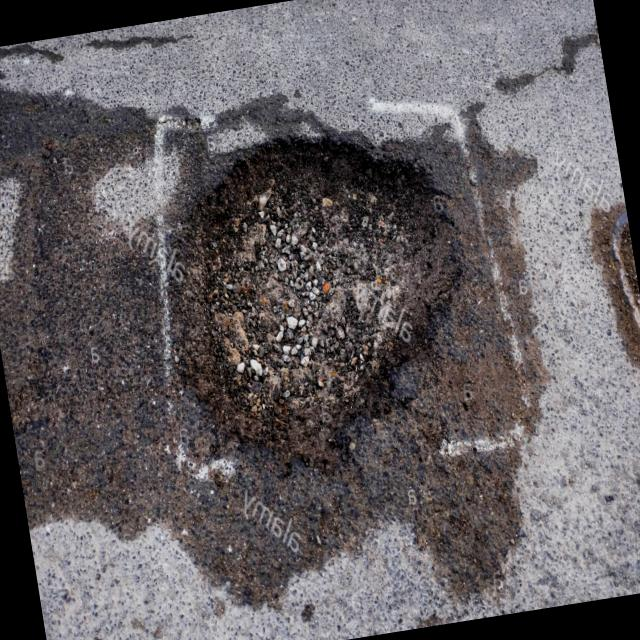bad-road: (142, 109, 492, 497)
